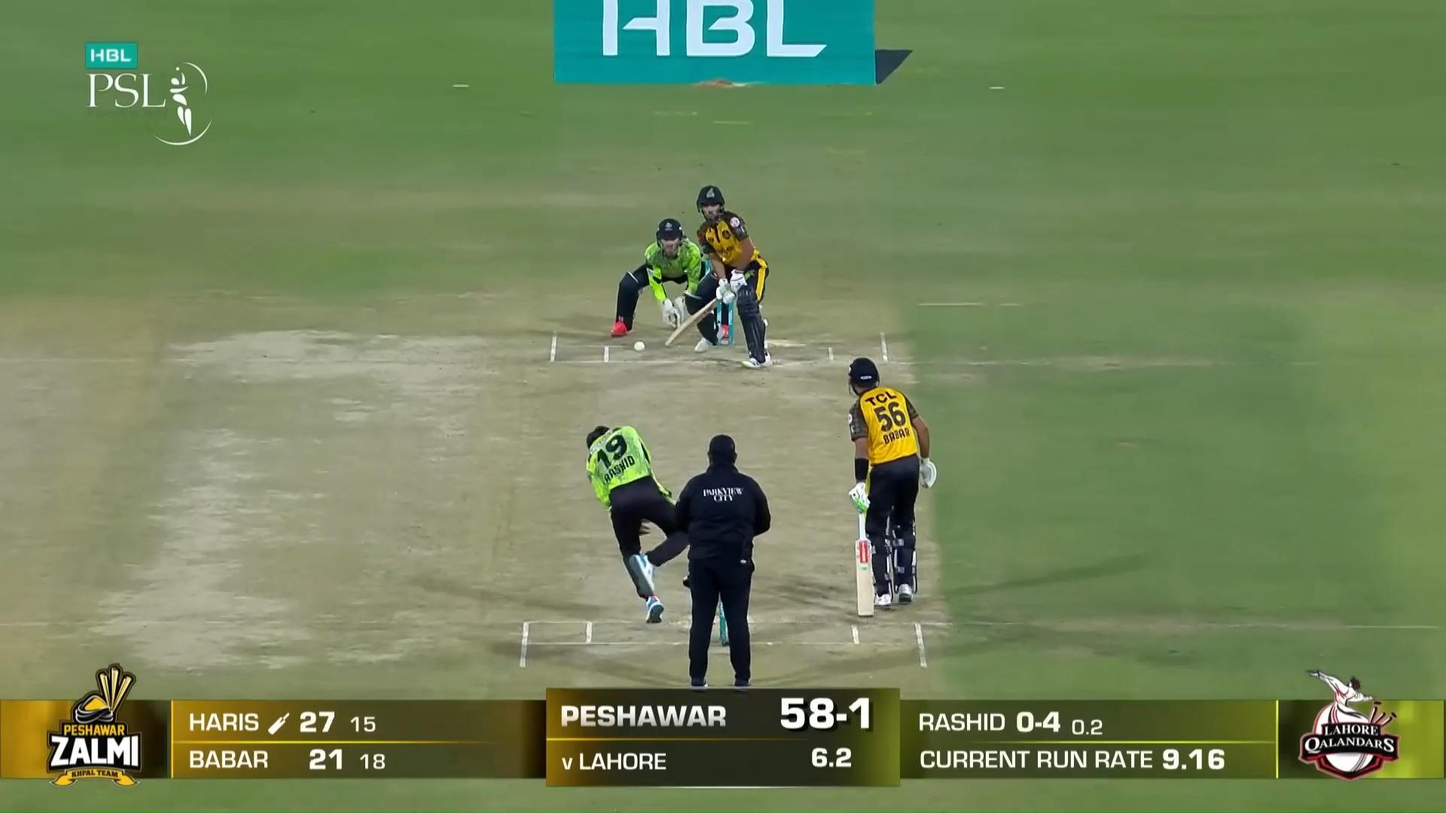batsman: (665, 184, 773, 369)
